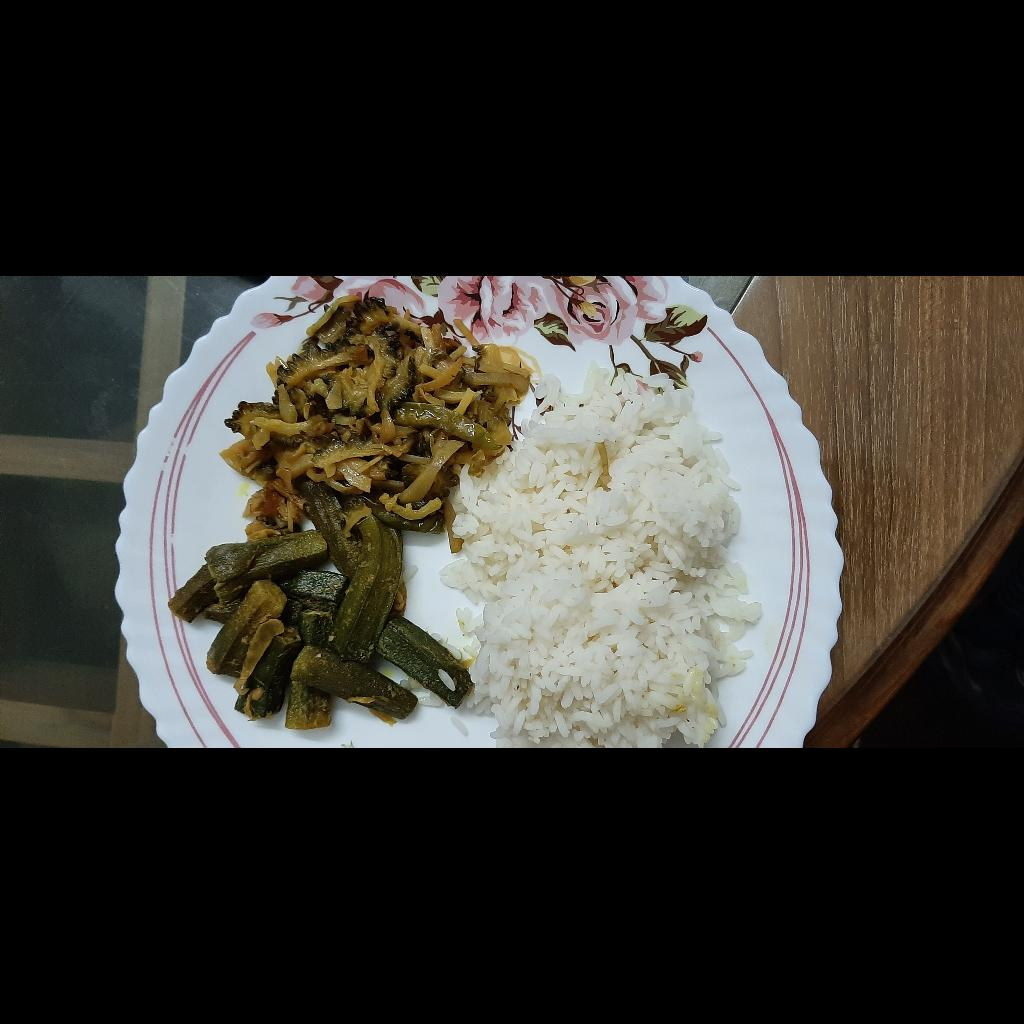korola-vaji: (197, 494, 455, 803)
okra: (13, 440, 253, 741)
rice: (0, 714, 388, 1024)
